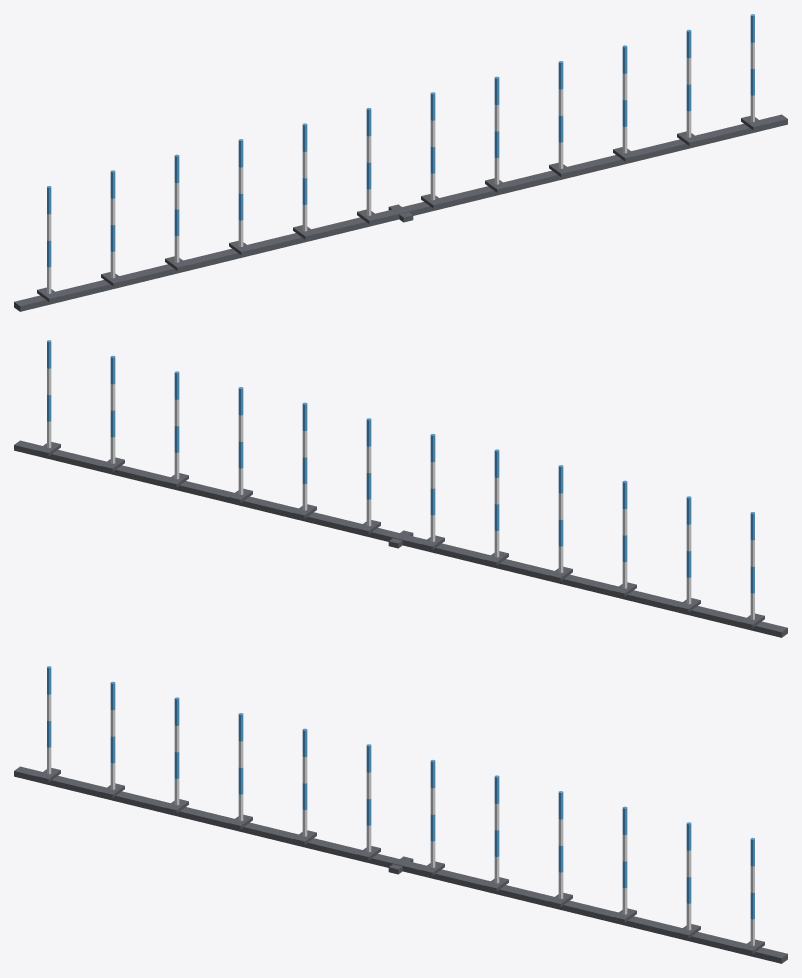
Rendered from dog-agility-and-training-field-weave-pole-set-twelve-c565137b__35588.glb.
The picture shows the model from 3 angles, top to bottom: view 1: azimuth 30°, elevation 25°; view 2: azimuth 150°, elevation 25°; view 3: azimuth 330°, elevation 25°; orthographic projection.
Parts seen in each view (by area): view 1: weave-pole-set-twelve-charcoal, weave-pole-set-twelve-azure, weave-pole-set-twelve-steel; view 2: weave-pole-set-twelve-charcoal, weave-pole-set-twelve-azure, weave-pole-set-twelve-steel; view 3: weave-pole-set-twelve-charcoal, weave-pole-set-twelve-azure, weave-pole-set-twelve-steel.
Part boxes in pixels (x1,y1,x2,y2): weave-pole-set-twelve-charcoal: (14,114,787,311); weave-pole-set-twelve-azure: (47,14,754,267); weave-pole-set-twelve-steel: (47,42,754,293); weave-pole-set-twelve-charcoal: (14,440,787,637); weave-pole-set-twelve-azure: (47,340,754,593); weave-pole-set-twelve-steel: (47,368,754,619); weave-pole-set-twelve-charcoal: (14,766,787,963); weave-pole-set-twelve-azure: (47,666,754,919); weave-pole-set-twelve-steel: (47,694,754,945).
Bounding box in the file's own units: 7.2 × 1.03 × 0.2399.
